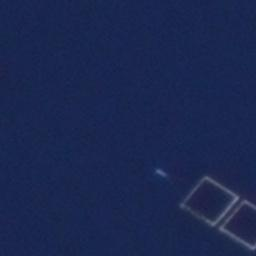square_solid: (175, 173, 244, 230), (215, 196, 256, 254)
